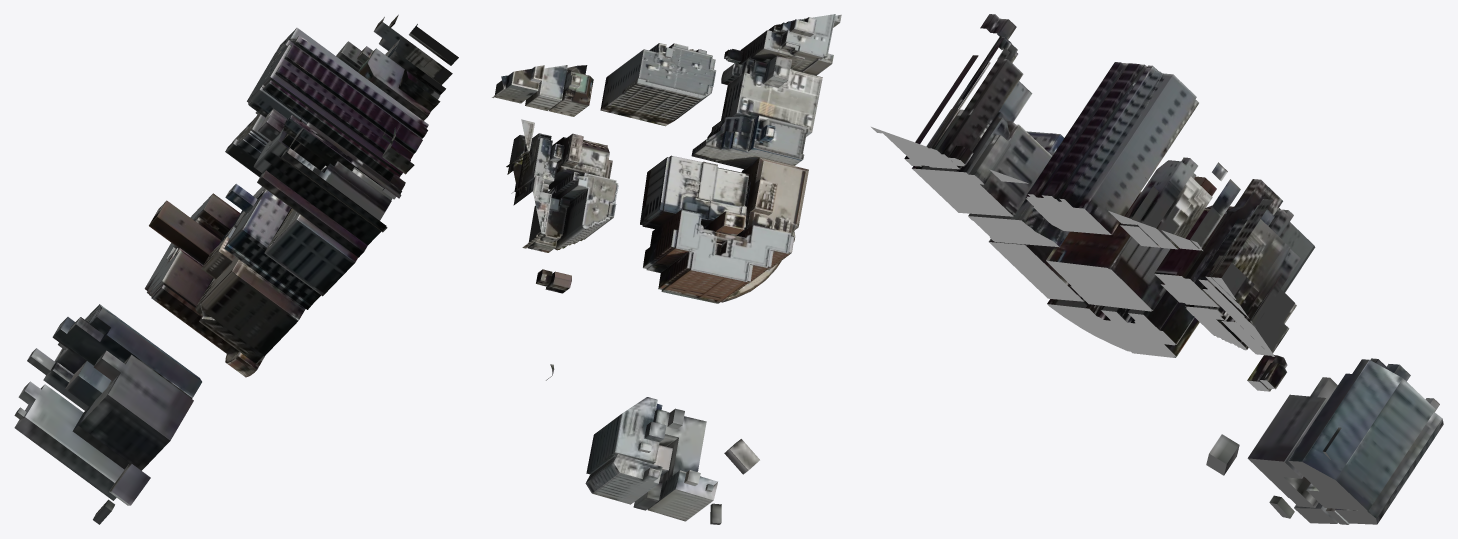
File: 39543_bldg_Building.glb
The picture shows the model from 3 angles, left to right: view 1: azimuth 30°, elevation 25°; view 2: azimuth 150°, elevation 25°; view 3: azimuth 270°, elevation 25°; orthographic projection. The views are drawn at different scales.
Bounding box in the file's own units: 106 × 142 × 143.
Materials: 6 (4 with a texture image).
